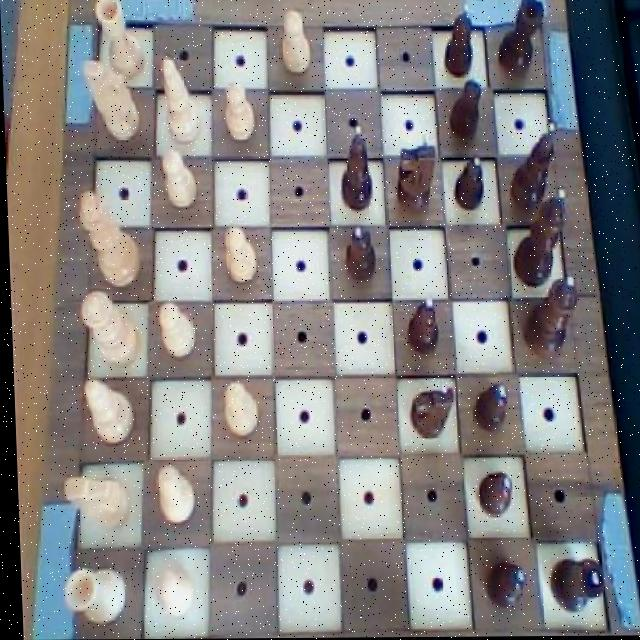bishop: (501, 118, 561, 215), (335, 119, 376, 215)
black-bishop: (506, 188, 576, 291)
black-king: (389, 134, 437, 218), (400, 379, 456, 441)
black-knight: (440, 3, 478, 84), (444, 76, 487, 145), (337, 223, 380, 290), (474, 555, 525, 611), (402, 296, 442, 361), (465, 379, 509, 438), (448, 152, 486, 214), (473, 469, 510, 520)
black-pawn: (514, 272, 581, 362)
black-queen: (489, 0, 549, 78), (543, 552, 604, 620)
black-rook: (155, 51, 207, 150), (77, 375, 136, 455)
white-bishop: (75, 187, 145, 291)
white-king: (76, 57, 142, 143), (54, 472, 133, 534)
white-knight: (143, 459, 198, 530), (152, 296, 197, 364), (147, 557, 191, 622), (158, 147, 201, 212), (276, 4, 314, 77), (218, 223, 259, 289), (217, 377, 259, 441), (218, 80, 256, 145)
white-pawn: (76, 287, 143, 371)
white-queen: (53, 561, 124, 630), (92, 0, 147, 82)
